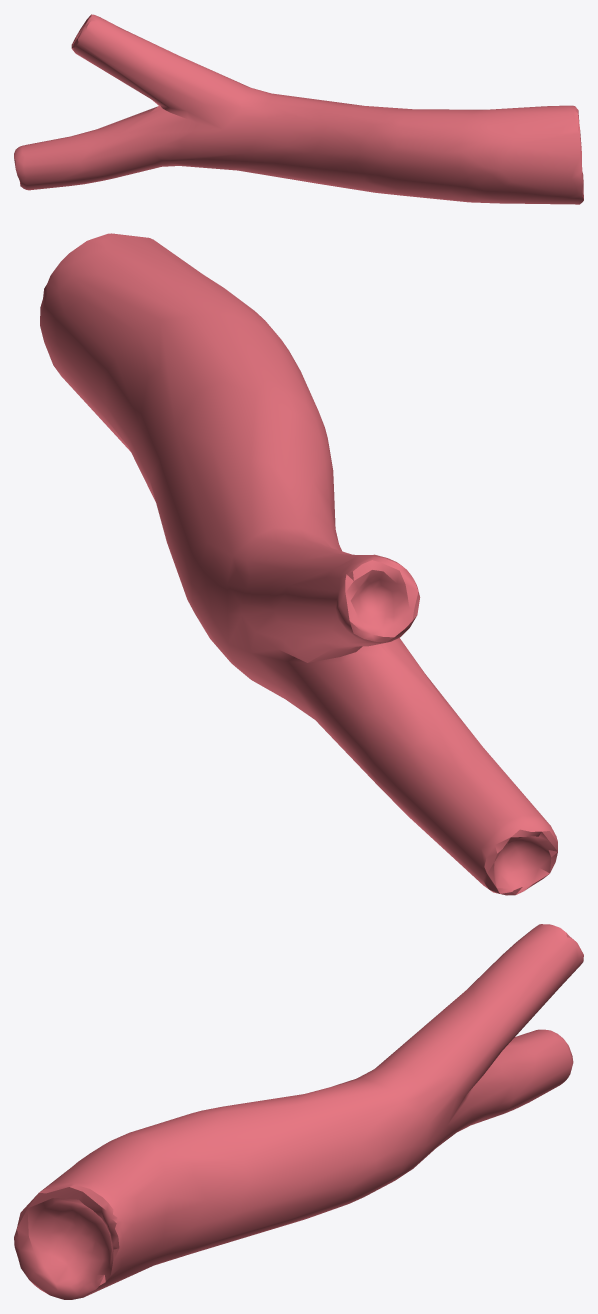
The model's file is fma14335.glb.
The picture shows the model from 3 angles, top to bottom: view 1: azimuth 30°, elevation 25°; view 2: azimuth 150°, elevation 25°; view 3: azimuth 270°, elevation 25°; orthographic projection. The views are drawn at different scales.
Visible parts, largest first — view 1: FMA14335; view 2: FMA14335; view 3: FMA14335.
Boxes of the visible parts, left/top/right/bottom form: FMA14335: left=14, top=14, right=583, bottom=204; FMA14335: left=40, top=233, right=557, bottom=895; FMA14335: left=14, top=924, right=583, bottom=1299.
Bounding box in the file's own units: 0.0519 × 0.0185 × 0.046.
